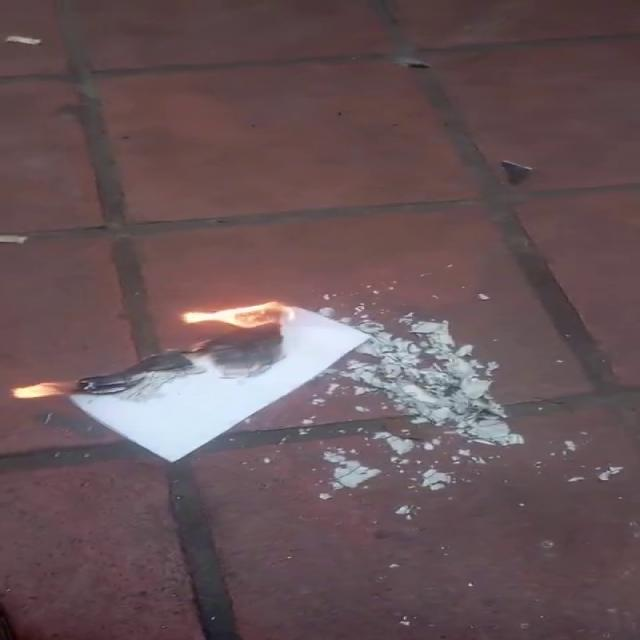Fire_Dangerous: (181, 300, 298, 345), (3, 380, 87, 405)
